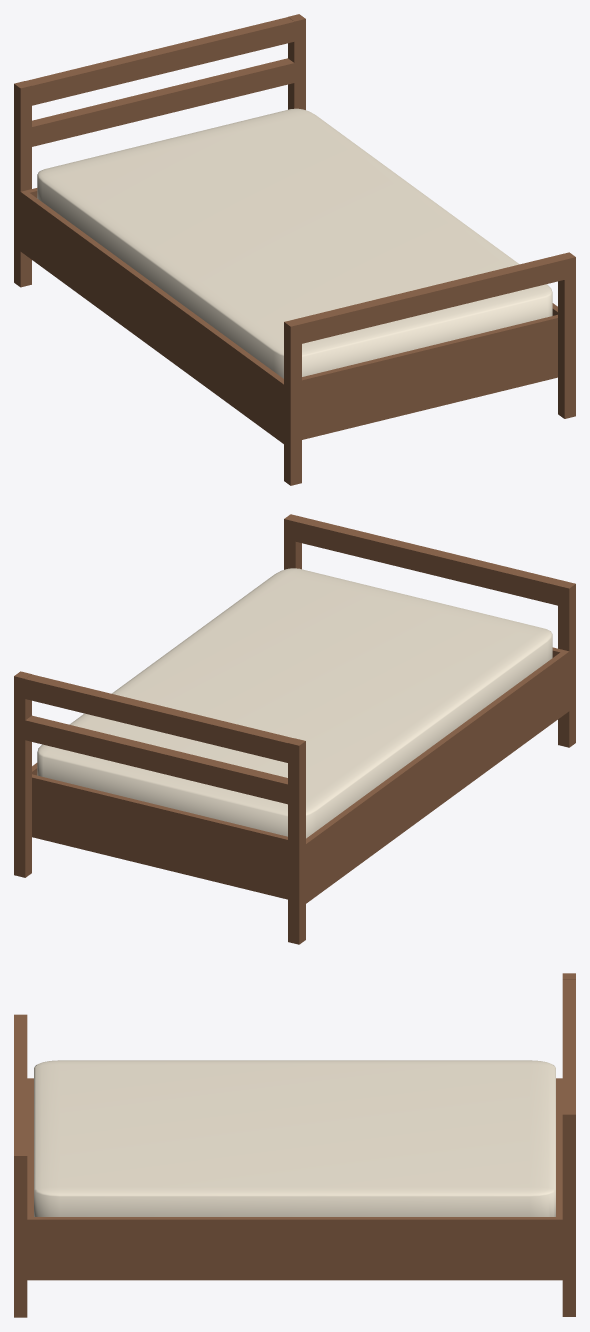
File: Bed.fbx
The picture shows the model from 3 angles, top to bottom: view 1: azimuth 30°, elevation 25°; view 2: azimuth 150°, elevation 25°; view 3: azimuth 270°, elevation 25°; orthographic projection.
Parts seen in each view (by area): view 1: Matress, Cube.003; view 2: Matress, Cube.003; view 3: Matress, Cube.003.
Part boxes in pixels (x1,y1,x2,y2): Matress: (37,108,552,378); Cube.003: (14,14,575,485); Matress: (37,568,552,838); Cube.003: (14,514,575,944); Matress: (34,1060,555,1216); Cube.003: (14,973,575,1317).
Size of the model in its own units: 1.5 by 1 by 2.52.
